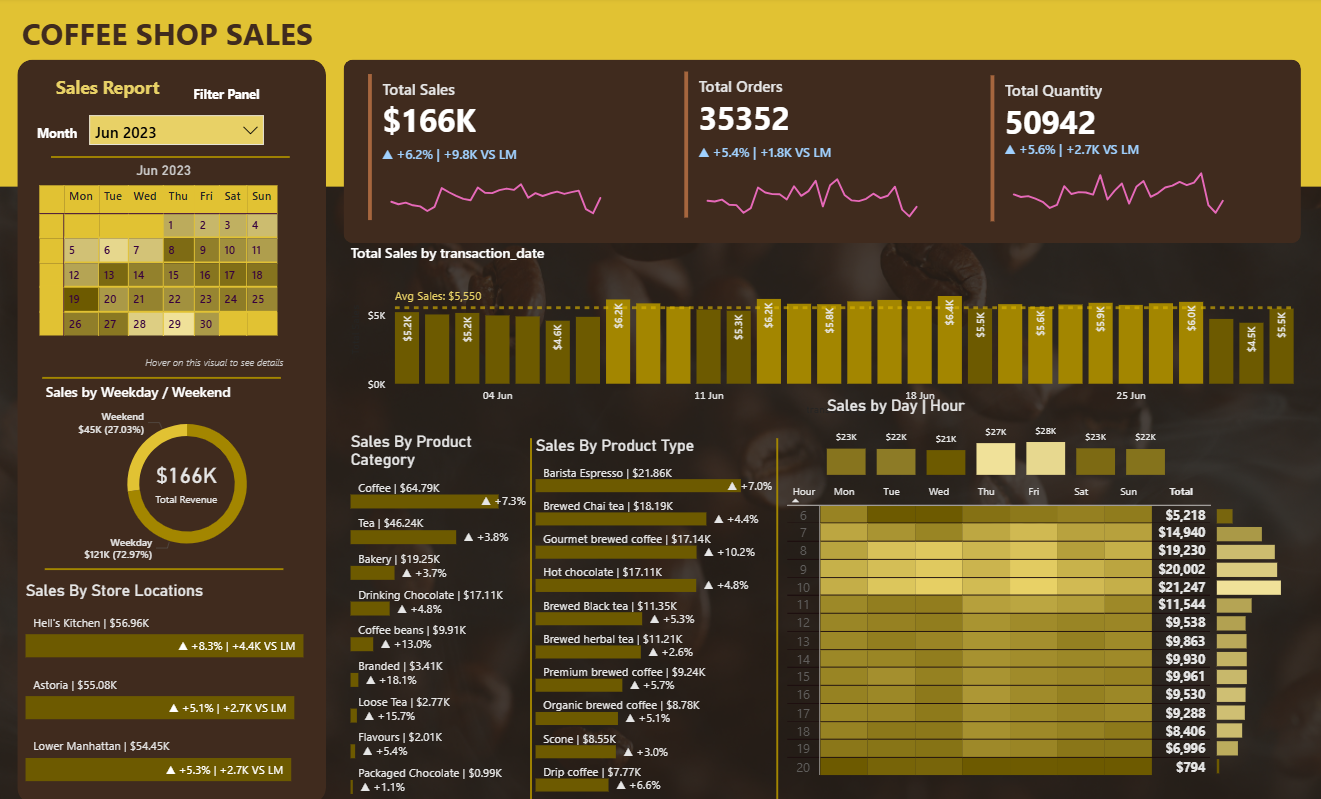

Layout of this report page (visuals, bound fields, positions):
{"tool":"powerbi","page":{"name":"Page 1","canvas":[1400,850],"ordinal":0},"visuals":[{"type":"shape","box":[0,0,1400,200],"z":0},{"type":"cardVisual","fields":{"Data":["Transactions.Total Orders"]},"box":[721.1,73.8,300.6,164.8],"z":0,"group":"g2"},{"type":"cardVisual","fields":{"Data":["Transactions.Total Sales"]},"box":[387.6,76.5,300.6,164.8],"z":0,"group":"g1"},{"type":"cardVisual","fields":{"Data":["Transactions.Total Quantity"]},"box":[1044,77.5,300.6,164.8],"z":0,"group":"g3"},{"type":"shape","box":[22.4,65.9,325.6,784.4],"z":1000},{"type":"lineChart","fields":{"Category":["Date Table.Date.Variation.Date Hierarchy.Year","Date Table.Date.Variation.Date Hierarchy.Quarter","Date Table.Date.Variation.Date Hierarchy.Month","Date Table.Date.Variation.Date Hierarchy.Day"],"Y":["Transactions.Total Quantity"]},"box":[1058.6,151.6,250.5,84.4],"z":1000,"group":"g3"},{"type":"lineChart","fields":{"Category":["Date Table.Date.Variation.Date Hierarchy.Year","Date Table.Date.Variation.Date Hierarchy.Quarter","Date Table.Date.Variation.Date Hierarchy.Month","Date Table.Date.Variation.Date Hierarchy.Day"],"Y":["Transactions.Total Orders"]},"box":[735.6,154.2,250.5,84.4],"z":1000,"group":"g2"},{"type":"lineChart","fields":{"Category":["Date Table.Date.Variation.Date Hierarchy.Year","Date Table.Date.Variation.Date Hierarchy.Quarter","Date Table.Date.Variation.Date Hierarchy.Month","Date Table.Date.Variation.Date Hierarchy.Day"],"Y":["Transactions.Total Sales"]},"box":[402.1,156.9,250.5,84.4],"z":1000,"group":"g1"},{"type":"shape","box":[366.5,65.9,1009.8,193.8],"z":2000},{"type":"textbox","box":[22.4,11.9,365.2,64.6],"z":3000},{"type":"slicer","fields":{"Values":["Date Table.Month Year"]},"box":[93.6,120,193.8,39.5],"z":4000},{"type":"group","id":"g1","title":"Group 1","box":[387.6,76.5,300.6,164.8],"z":5000},{"type":"group","id":"g2","title":"Group 1","box":[721.1,73.8,300.6,164.8],"z":6000},{"type":"group","id":"g3","title":"Group 1","box":[1044,77.5,300.6,164.8],"z":7000},{"type":"pivotTable","fields":{"Rows":["Date Table.Week Number"],"Columns":["Date Table.Day Name"],"Values":["Min(Date Table.Day Number)"]},"box":[40.9,193.8,274.2,176.6],"z":8000},{"type":"card","fields":{"Values":["Min(Date Table.Month Year)"]},"box":[130,170,93.3,26.7],"z":9000},{"type":"card","fields":{"Values":["Transactions.Foot Note"]},"box":[136.7,370,186.7,35],"z":10000},{"type":"donutChart","title":"Sales by Weekday / Weekend","fields":{"Category":["Date Table.Weekday / Weekend"],"Y":["Transactions.Total Sales"]},"box":[47.5,406,308.5,195.1],"z":11000},{"type":"card","fields":{"Values":["Transactions.Total Sales"]},"box":[147.6,475.9,106.8,69.9],"z":12000},{"type":"shape","box":[48.3,378.3,251.7,46.7],"z":13000},{"type":"shape","box":[51.7,580,251.7,46.7],"z":14000},{"type":"shape","box":[58,163.5,251.8,10.5],"z":15000},{"type":"clusteredBarChart","title":"Sales By Store Locations","fields":{"Y":["Transactions.Placeholder","Transactions.Total Sales"],"Category":["Transactions.store_location"]},"box":[26.7,615,330,220],"z":16000},{"type":"clusteredColumnChart","fields":{"Y":["Transactions.Total Sales"],"Category":["Transactions.transaction_date"]},"box":[368.6,260,1008.6,187.1],"z":17000},{"type":"clusteredBarChart","title":"Sales By Product Category","fields":{"Y":["Transactions.Placeholder","Transactions.Total Sales"],"Category":["Transactions.product_category"]},"box":[369.1,458.7,195.1,387.6],"z":18000},{"type":"clusteredBarChart","title":"Sales By Product Type","fields":{"Y":["Transactions.Placeholder","Transactions.Total Sales"],"Category":["Transactions.product_type"]},"box":[564.2,462.7,259.7,381],"z":19000},{"type":"pivotTable","fields":{"Rows":["Transactions.Hour"],"Columns":["Date Table.Day Name"],"Values":["Transactions.Total Sales"]},"box":[834,514.1,448.2,321.7],"z":20000},{"type":"barChart","fields":{"Category":["Transactions.Hour"],"Y":["Transactions.Total Sales"]},"box":[1282.7,527.3,105.5,296.6],"z":21000},{"type":"shape","box":[548.4,465.3,31.6,384.9],"z":22000},{"type":"shape","box":[797.5,465.3,52.7,384.9],"z":23000},{"type":"columnChart","title":"Sales by Day | Hour","fields":{"Y":["Transactions.Total Sales"],"Category":["Date Table.Day Name"]},"box":[871.4,420.5,367.8,89.6],"z":24000},{"type":"textbox","box":[38.2,129.2,77.8,34.3],"z":25000},{"type":"textbox","box":[58,77.8,229.4,42.2],"z":26000},{"type":"textbox","box":[203,88.3,97.6,31.6],"z":27000}]}

Visuals, with their boxes in screenshot pixels (x1, y1, x2, y2), scaled from the page's 1400x850 canvas onto the 1321x799 screenshot:
shape: [left=0, top=0, right=1320, bottom=188]
cardVisual - Transactions.Total Orders: [left=680, top=69, right=964, bottom=224]
cardVisual - Transactions.Total Sales: [left=366, top=72, right=649, bottom=227]
cardVisual - Transactions.Total Quantity: [left=985, top=73, right=1269, bottom=228]
shape: [left=21, top=62, right=328, bottom=798]
lineChart - Date Table.Date.Variation.Date Hierarchy.Year x Date Table.Date.Variation.Date Hierarchy.Quarter: [left=999, top=143, right=1235, bottom=222]
lineChart - Date Table.Date.Variation.Date Hierarchy.Year x Date Table.Date.Variation.Date Hierarchy.Quarter: [left=694, top=145, right=930, bottom=224]
lineChart - Date Table.Date.Variation.Date Hierarchy.Year x Date Table.Date.Variation.Date Hierarchy.Quarter: [left=379, top=147, right=616, bottom=227]
shape: [left=346, top=62, right=1299, bottom=244]
textbox: [left=21, top=11, right=366, bottom=72]
slicer - Date Table.Month Year: [left=88, top=113, right=271, bottom=150]
"Group 1" group: [left=366, top=72, right=649, bottom=227]
"Group 1" group: [left=680, top=69, right=964, bottom=224]
"Group 1" group: [left=985, top=73, right=1269, bottom=228]
pivotTable - Date Table.Week Number x Date Table.Day Name: [left=39, top=182, right=297, bottom=348]
card - Min(Date Table.Month Year): [left=123, top=160, right=211, bottom=185]
card - Transactions.Foot Note: [left=129, top=348, right=305, bottom=381]
"Sales by Weekday / Weekend" donutChart: [left=45, top=382, right=336, bottom=565]
card - Transactions.Total Sales: [left=139, top=447, right=240, bottom=513]
shape: [left=46, top=356, right=283, bottom=400]
shape: [left=49, top=545, right=286, bottom=589]
shape: [left=55, top=154, right=292, bottom=164]
"Sales By Store Locations" clusteredBarChart: [left=25, top=578, right=337, bottom=785]
clusteredColumnChart - Transactions.Total Sales x Transactions.transaction_date: [left=348, top=244, right=1299, bottom=420]
"Sales By Product Category" clusteredBarChart: [left=348, top=431, right=532, bottom=796]
"Sales By Product Type" clusteredBarChart: [left=532, top=435, right=777, bottom=793]
pivotTable - Transactions.Hour x Date Table.Day Name: [left=787, top=483, right=1210, bottom=786]
barChart - Transactions.Hour x Transactions.Total Sales: [left=1210, top=496, right=1310, bottom=774]
shape: [left=517, top=437, right=547, bottom=798]
shape: [left=752, top=437, right=802, bottom=798]
"Sales by Day | Hour" columnChart: [left=822, top=395, right=1169, bottom=479]
textbox: [left=36, top=121, right=109, bottom=154]
textbox: [left=55, top=73, right=271, bottom=113]
textbox: [left=192, top=83, right=284, bottom=113]
